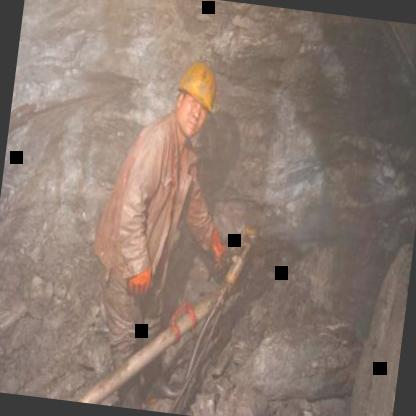helmet: (164, 53, 225, 146)
